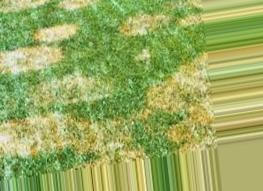patch: (6, 117, 46, 143), (56, 72, 99, 96), (37, 23, 79, 44), (18, 46, 56, 66), (51, 123, 80, 142), (142, 87, 159, 119), (125, 19, 165, 31), (10, 3, 47, 14), (167, 91, 186, 111), (131, 46, 152, 62), (162, 75, 186, 83)
